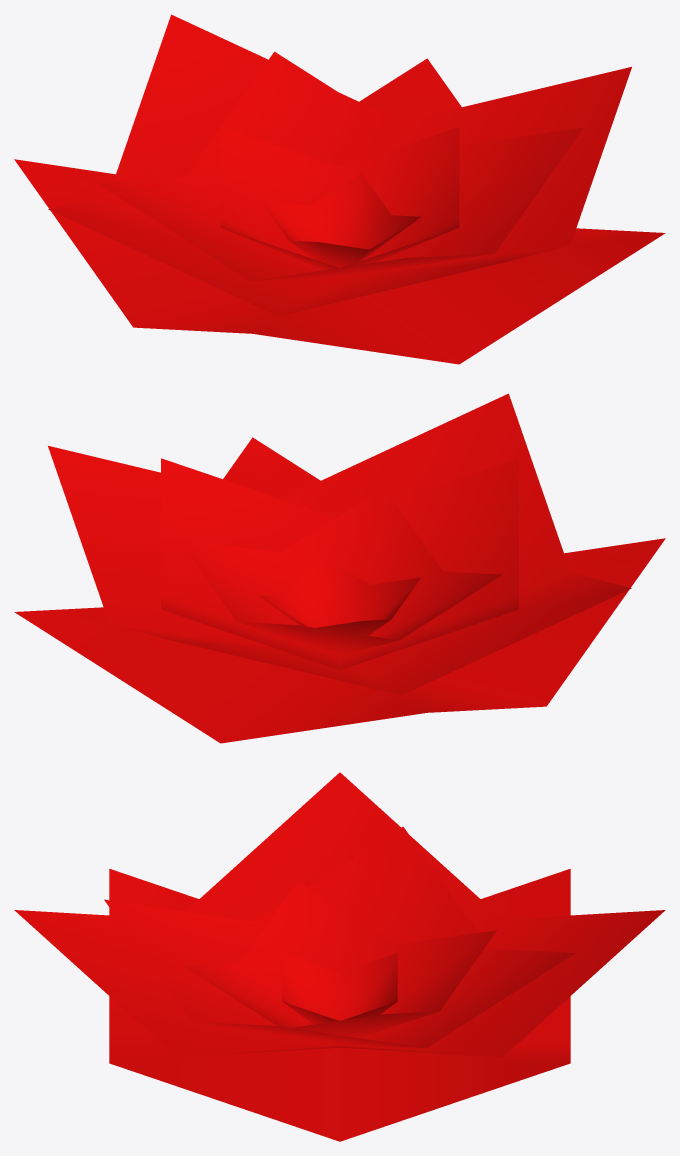
The model's file is PaperFlower.fbx.
3 renders of one model, top to bottom at view 1: azimuth 30°, elevation 25°; view 2: azimuth 150°, elevation 25°; view 3: azimuth 270°, elevation 25°, orthographic. The views are drawn at different scales.
Parts seen in each view (by area): view 1: Mesh; view 2: Mesh; view 3: Mesh.
Part boxes in pixels (<box>): Mesh: <box>14,14,665,364</box>; Mesh: <box>14,393,665,743</box>; Mesh: <box>14,772,665,1141</box>.
Bounding box in the file's own units: 22.63 × 5.15 × 22.63.
